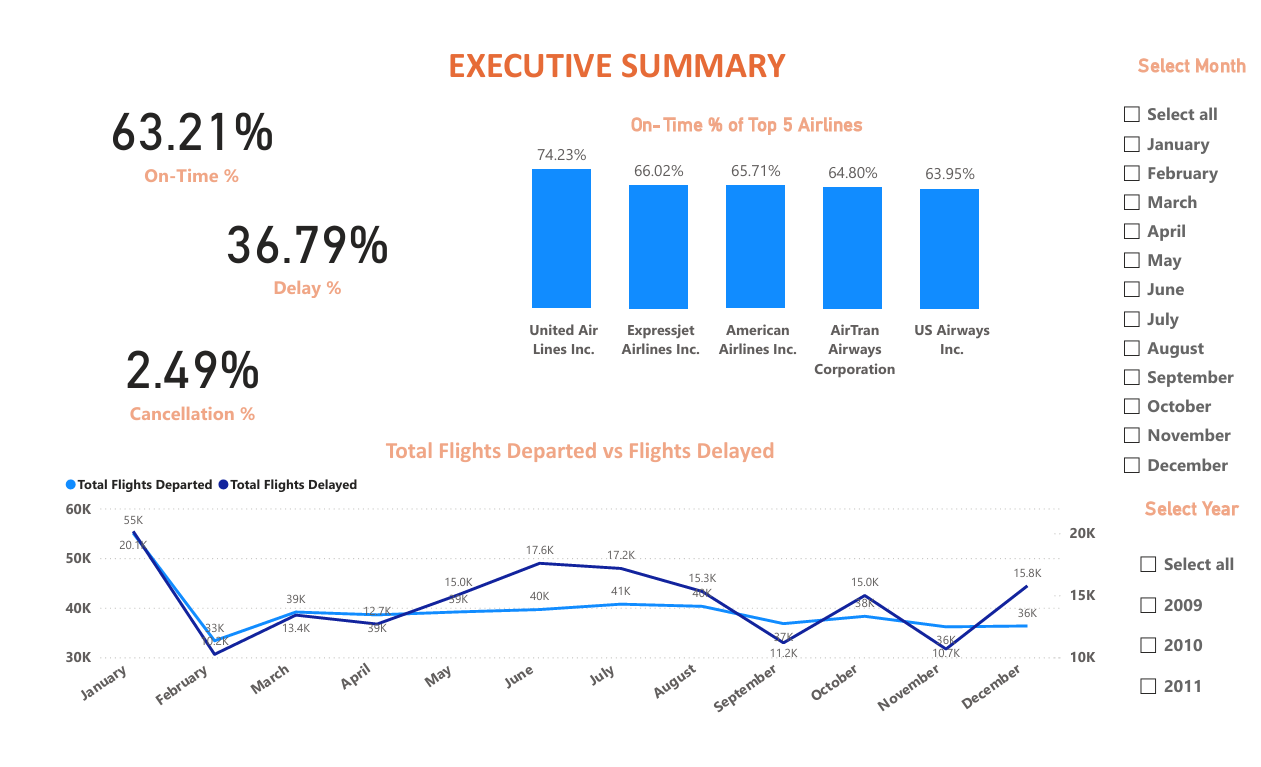

The page's visual inventory and layout, read from the dashboard file:
{"tool":"powerbi","page":{"name":"Executive Summary","canvas":[1280,720],"ordinal":0},"visuals":[{"type":"textbox","box":[430.5,3.1,362.3,61.9],"z":0},{"type":"card","fields":{"Values":["FactFlights.On-Time %"]},"box":[81.2,45.5,187.1,119.4],"z":1000},{"type":"card","fields":{"Values":["FactFlights.Delay %"]},"box":[199.8,167.4,186.8,109],"z":2000},{"type":"card","fields":{"Values":["FactFlights.Cancellation %"]},"box":[81.7,288,186.8,125.8],"z":3000},{"type":"lineChart","title":"Total Flights Departed vs Flights Delayed","fields":{"Y":["Sum(FactFlights.Number of Flights)"],"Category":["FactFlights.Month"],"Y2":["Sum(FactFlights.Flights Delayed)"]},"box":[38.7,413.4,1069.9,306.6],"z":4000},{"type":"listSlicer","title":"Select Month","fields":{"Values":["FactFlights.Month"]},"box":[1127.4,20.8,153.1,469.6],"z":5000},{"type":"listSlicer","title":"Select Year","fields":{"Values":["FactFlights.Year"]},"box":[1144.2,477.4,118.1,242.6],"z":6000},{"type":"columnChart","title":"On-Time % of Top 5 Airlines","fields":{"Y":["FactFlights.On-Time %"],"Category":["dimAirline.Airline Name"]},"box":[456.6,81.7,576,278.9],"z":7000}]}

Visuals, with their boxes on the page's 1280x720 design canvas (x1, y1, x2, y2). These are canvas units, not pixel positions in the 1261x767 screenshot, which may show the page scaled, cropped or inside an application window:
textbox: 430:3:793:65
card - FactFlights.On-Time %: 81:46:268:165
card - FactFlights.Delay %: 200:167:387:276
card - FactFlights.Cancellation %: 82:288:268:414
"Total Flights Departed vs Flights Delayed" lineChart: 39:413:1109:720
"Select Month" listSlicer: 1127:21:1280:490
"Select Year" listSlicer: 1144:477:1262:720
"On-Time % of Top 5 Airlines" columnChart: 457:82:1033:361
